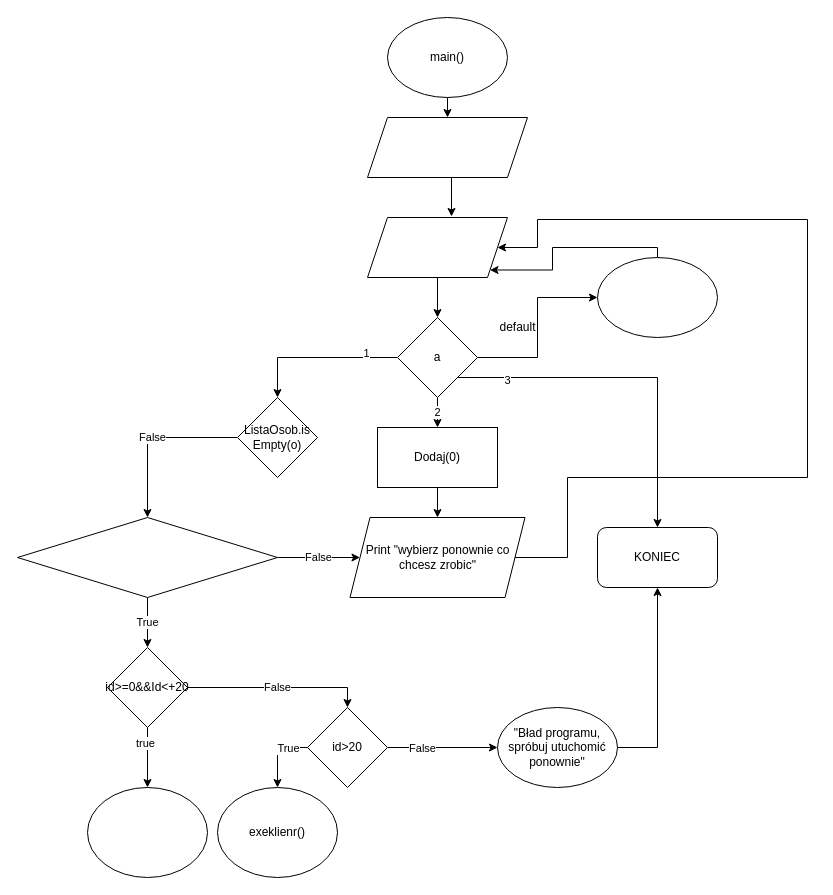
The diagram is 833 pixels wide and 895 high, and some of its shapes have lost their labels. Here are the shapes that lost their labels. From the top down, the centre of each, then its label:
the point at 447,147: Print "Witaj w programie"
the point at 437,247: a = scaner.nextInt()
the point at 657,297: "NIe ma takiej opcji, wybierz ponownie"
the point at 147,557: Logowanie.sprawdzStatus(id, haslo)
the point at 147,832: exe.trener()
